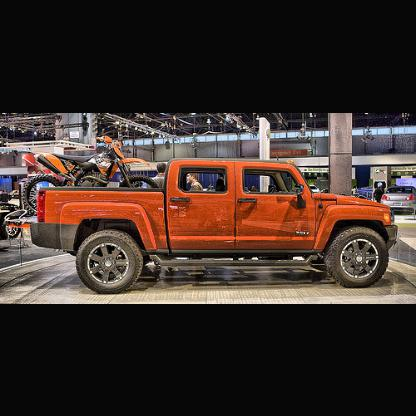HUMMER H3T Crew Cab 2010: (32, 156, 402, 297)
